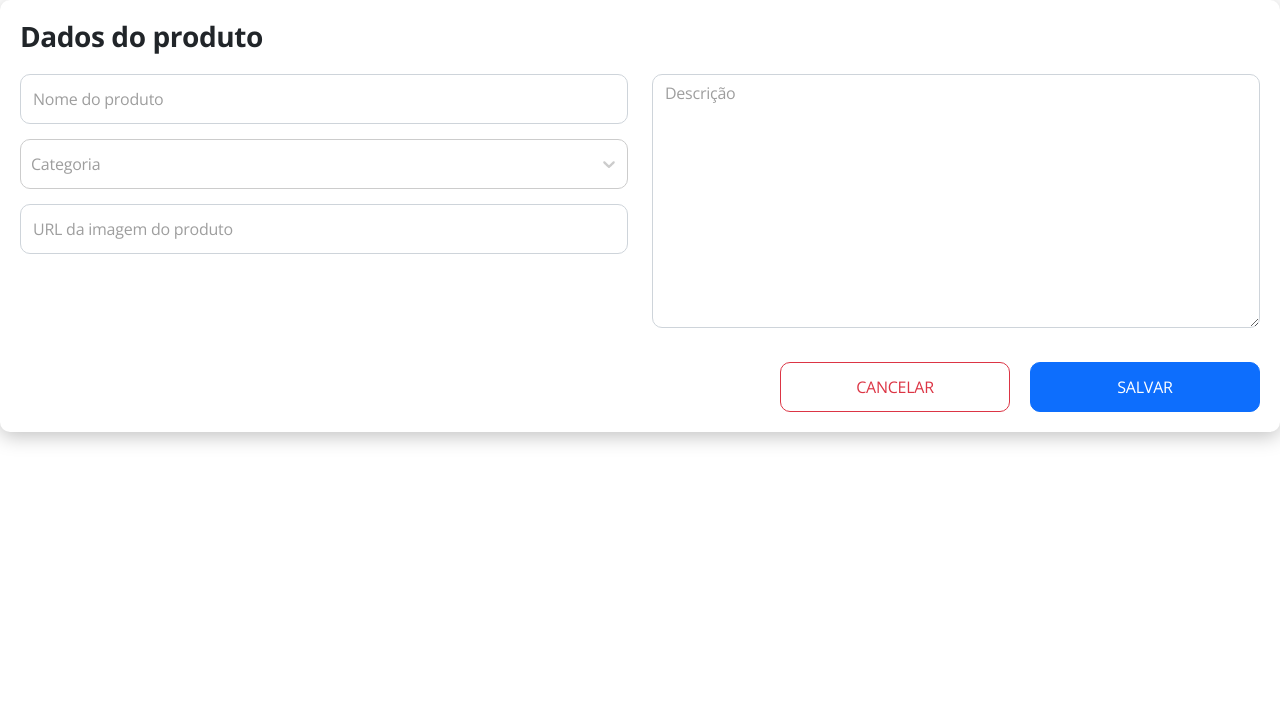
Test: Product form create tests › should show 5 validation messagens when just clicking submit
Click the button "SALVAR".
click(1145, 387)  # box [1030, 362, 1260, 412]
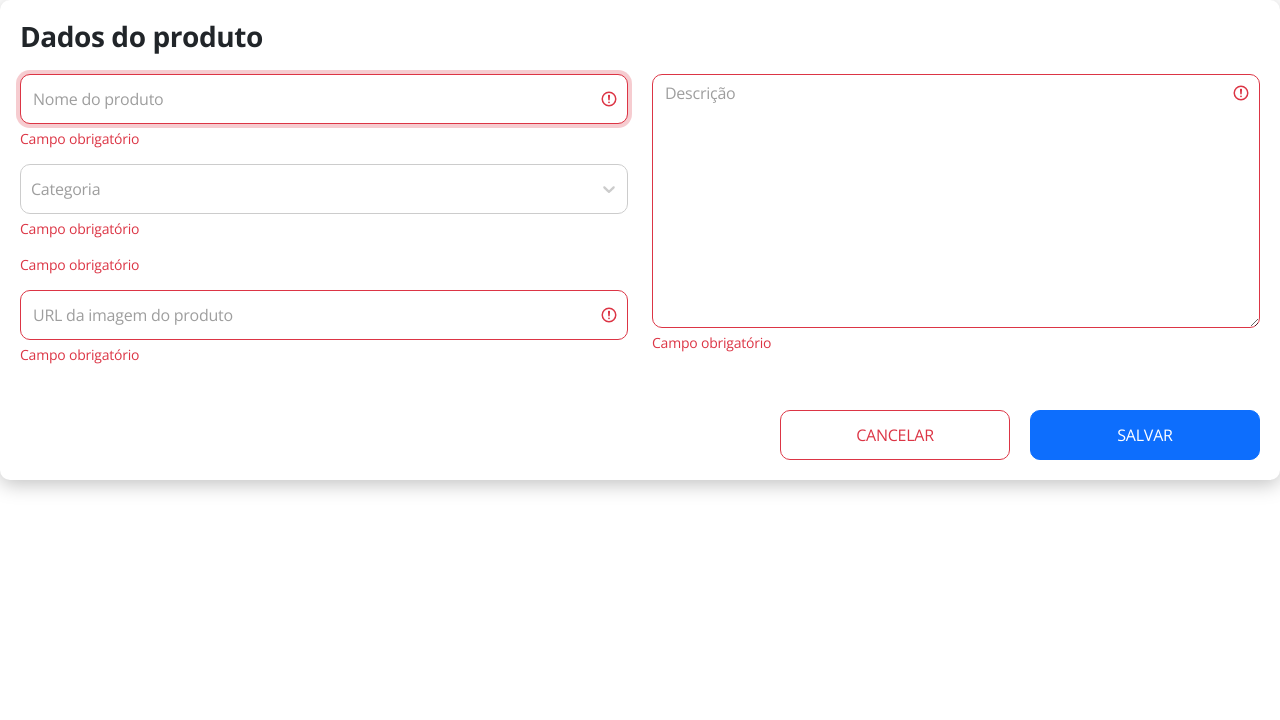
Expected: the text "Campo obrigatório" is shown 5 times, [20, 129, 139, 148]; [20, 219, 139, 238]; [20, 255, 139, 274]; [20, 345, 139, 364]; [652, 333, 771, 352]
